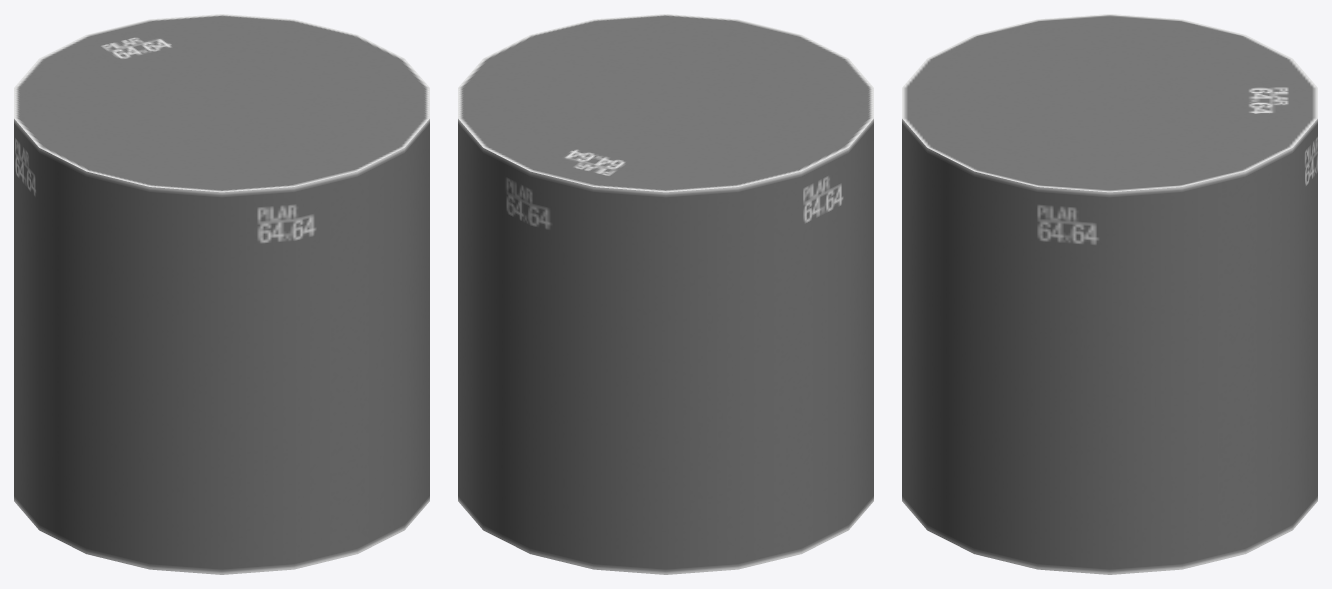
Rendered from PillarSmall_g.fbx.
3 renders of one model, left to right at view 1: azimuth 30°, elevation 25°; view 2: azimuth 150°, elevation 25°; view 3: azimuth 270°, elevation 25°, orthographic.
Visible parts, largest first — view 1: PillarSmall_g; view 2: PillarSmall_g; view 3: PillarSmall_g.
Boxes of the visible parts, x1,y1,x2,y2 form: PillarSmall_g: (14, 14, 429, 574); PillarSmall_g: (458, 14, 873, 574); PillarSmall_g: (902, 14, 1317, 574).
Size of the model in its own units: 2.46 by 2.46 by 2.43.
